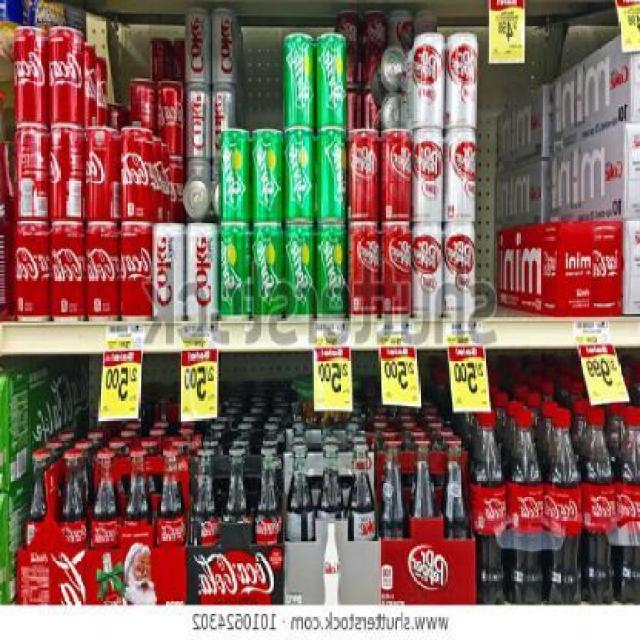Drinks: (545, 407, 583, 605), (469, 411, 506, 606), (508, 411, 544, 606), (582, 406, 615, 606), (615, 408, 639, 604), (47, 27, 84, 125), (49, 223, 86, 320), (119, 125, 155, 223), (48, 125, 84, 222), (118, 222, 153, 321), (152, 221, 186, 322), (13, 25, 47, 124), (14, 123, 48, 222), (444, 31, 478, 129), (16, 220, 50, 318), (84, 127, 119, 222), (412, 31, 445, 129), (187, 222, 219, 321), (411, 223, 444, 317), (379, 224, 412, 318), (316, 33, 349, 127), (315, 127, 348, 221), (218, 128, 251, 222), (218, 224, 251, 318), (412, 130, 445, 222), (443, 224, 475, 318), (380, 129, 412, 223), (347, 128, 379, 222), (348, 224, 380, 318), (283, 33, 315, 127), (284, 128, 316, 222), (251, 129, 283, 223), (314, 224, 346, 318), (283, 224, 315, 318), (251, 224, 283, 318), (86, 222, 117, 318), (444, 131, 476, 223), (90, 448, 119, 548), (158, 450, 187, 548), (192, 449, 219, 548), (254, 458, 283, 545), (212, 5, 240, 84), (184, 5, 211, 84), (184, 84, 211, 162)
